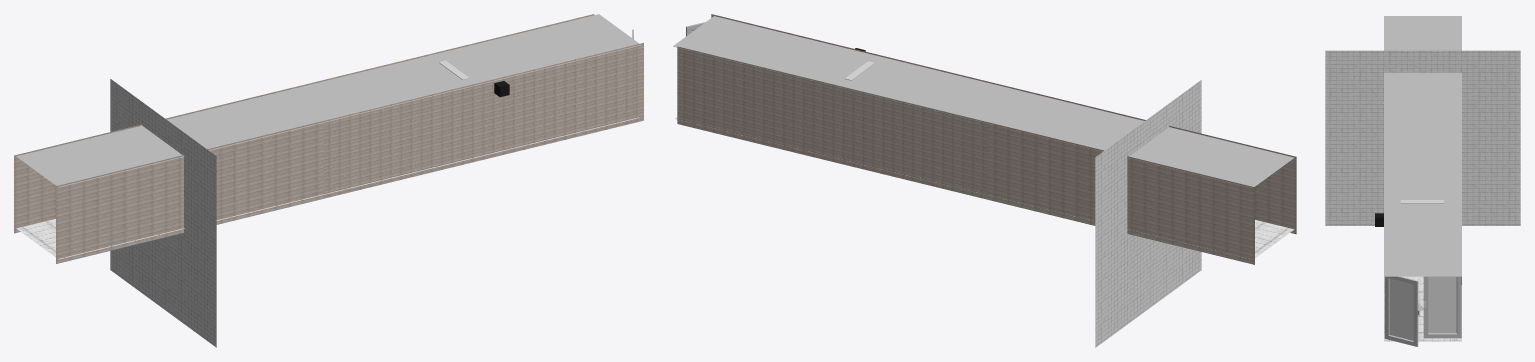
File: Escenario.fbx
3 views of the same model, side by side, from view 1: azimuth 30°, elevation 25°; view 2: azimuth 150°, elevation 25°; view 3: azimuth 270°, elevation 25° (orthographic). The views are drawn at different scales.
Parts seen in each view (by area): view 1: Plane.002, Plane.004, Plane.001, Plane.006, Plane.005, Plane.003; view 2: Plane.002, Plane.004, Plane.006, Plane.001, Plane.005, Plane.003; view 3: Plane.006, Plane.001, Plane.005, Cube.008, Cube.010, Plane, Cube.004.
Part boxes in pixels (box(x1,y1,x2,y2)): Plane.002: box(290, 14, 643, 198); Plane.004: box(14, 88, 323, 263); Plane.001: box(284, 14, 641, 122); Plane.006: box(110, 79, 216, 347); Plane.005: box(16, 91, 327, 187); Plane.003: box(16, 194, 325, 259); Plane.002: box(677, 14, 1021, 199); Plane.004: box(980, 90, 1296, 264); Plane.006: box(1095, 80, 1201, 347); Plane.001: box(673, 16, 1022, 121); Plane.005: box(983, 91, 1293, 186); Plane.003: box(991, 196, 1294, 257); Plane.006: box(1325, 50, 1520, 225); Plane.001: box(1384, 135, 1461, 276); Plane.005: box(1384, 16, 1461, 137); Cube.008: box(1423, 276, 1461, 338); Cube.010: box(1384, 276, 1418, 346); Plane: box(1384, 276, 1461, 341); Cube.004: box(1400, 200, 1443, 203).
Bounding box in the file's own units: 4392 × 1348 × 1360.
